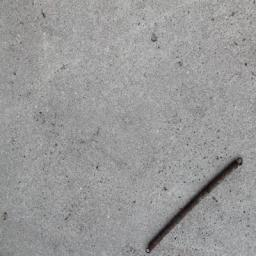FOD: (144, 154, 246, 256)
